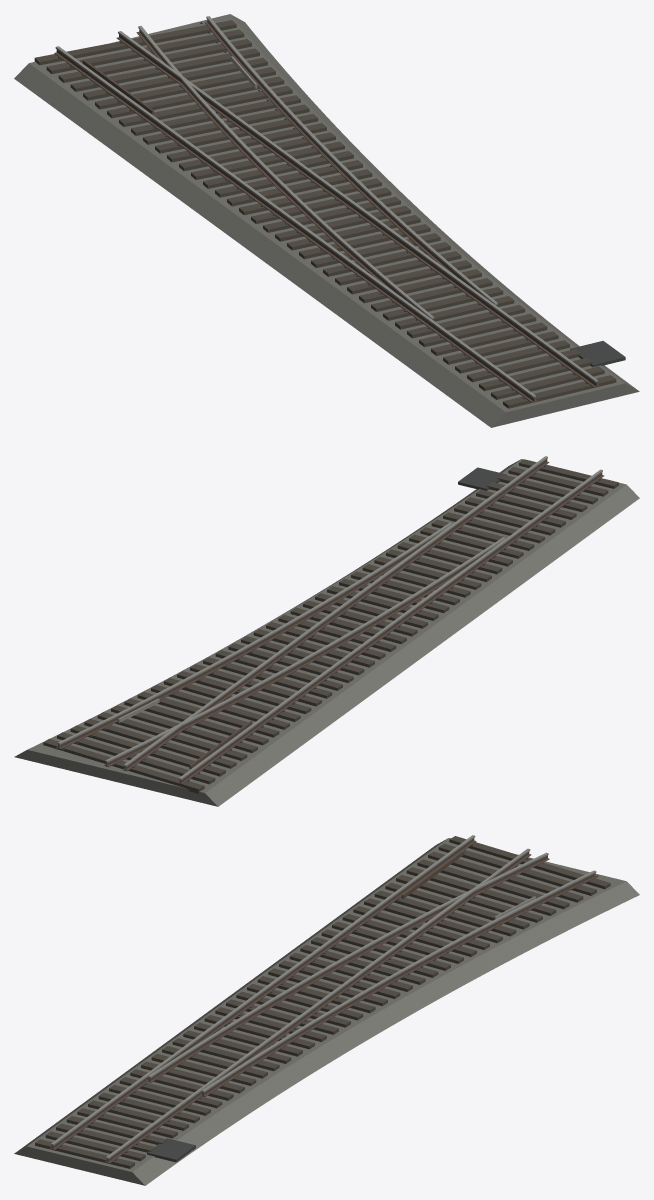
3 views of the same model, one above another, from view 1: azimuth 30°, elevation 25°; view 2: azimuth 150°, elevation 25°; view 3: azimuth 330°, elevation 25° (orthographic). The views are drawn at different scales.
Parts seen in each view (by area): view 1: VIS_Turnout_Integrated_SingleFannedSleeperField, VIS_TurnoutShared_Ballast_Bed, VIS_Through_Left_RailHead, VIS_Through_Right_RailHead, VIS_Diverging_Right_RailHead, VIS_Through_Left_RailWeb, VIS_Diverging_Left_RailHead, VIS_Through_Left_RailFoot, VIS_Through_Right_RailWeb, VIS_Through_Right_RailFoot, VIS_Diverging_Right_RailFoot, VIS_Diverging_Left_RailFoot (+3 smaller); view 2: VIS_Turnout_Integrated_SingleFannedSleeperField, VIS_TurnoutShared_Ballast_Bed, VIS_Through_Left_RailHead, VIS_Through_Right_RailHead, VIS_Diverging_Right_RailHead, VIS_Diverging_Left_RailHead, VIS_Through_Left_RailWeb, VIS_Through_Left_RailFoot, VIS_Through_Right_RailWeb, VIS_Through_Right_RailFoot, VIS_Diverging_Right_RailWeb, VIS_Diverging_Left_RailWeb (+3 smaller); view 3: VIS_Turnout_Integrated_SingleFannedSleeperField, VIS_TurnoutShared_Ballast_Bed, VIS_Through_Left_RailHead, VIS_Through_Right_RailHead, VIS_Diverging_Right_RailHead, VIS_Diverging_Left_RailHead, VIS_Diverging_Right_RailWeb, VIS_Through_Left_RailWeb, VIS_Diverging_Left_RailWeb, VIS_Through_Right_RailWeb, VIS_Diverging_Right_RailFoot, VIS_Through_Left_RailFoot (+3 smaller).
Boxes of the visible parts, x1,y1,x2,y2 form: VIS_Turnout_Integrated_SingleFannedSleeperField: (34, 20, 616, 408); VIS_TurnoutShared_Ballast_Bed: (14, 14, 639, 427); VIS_Through_Left_RailHead: (55, 46, 535, 397); VIS_Through_Right_RailHead: (118, 31, 598, 382); VIS_Diverging_Right_RailHead: (206, 16, 497, 304); VIS_Through_Left_RailWeb: (56, 49, 534, 401); VIS_Diverging_Left_RailHead: (138, 25, 434, 318); VIS_Through_Left_RailFoot: (54, 52, 537, 402); VIS_Through_Right_RailWeb: (119, 34, 597, 386); VIS_Through_Right_RailFoot: (116, 37, 599, 387); VIS_Diverging_Right_RailFoot: (205, 22, 456, 276); VIS_Diverging_Left_RailFoot: (136, 32, 391, 289); VIS_Turnout_Integrated_SingleFannedSleeperField: (43, 459, 618, 793); VIS_TurnoutShared_Ballast_Bed: (14, 459, 639, 806); VIS_Through_Left_RailHead: (178, 469, 602, 780); VIS_Through_Right_RailHead: (123, 456, 547, 766); VIS_Diverging_Right_RailHead: (57, 522, 452, 744); VIS_Diverging_Left_RailHead: (105, 537, 505, 762); VIS_Through_Left_RailWeb: (179, 472, 602, 783); VIS_Through_Left_RailFoot: (177, 475, 604, 784); VIS_Through_Right_RailWeb: (124, 459, 547, 769); VIS_Through_Right_RailFoot: (122, 461, 549, 771); VIS_Diverging_Right_RailWeb: (58, 532, 440, 747); VIS_Diverging_Left_RailWeb: (106, 545, 496, 765); VIS_Turnout_Integrated_SingleFannedSleeperField: (35, 836, 610, 1168); VIS_TurnoutShared_Ballast_Bed: (14, 838, 639, 1185); VIS_Through_Left_RailHead: (51, 835, 475, 1145); VIS_Through_Right_RailHead: (106, 848, 530, 1159); VIS_Diverging_Right_RailHead: (201, 870, 596, 1092); VIS_Diverging_Left_RailHead: (148, 852, 548, 1078); VIS_Diverging_Right_RailWeb: (202, 873, 595, 1095); VIS_Through_Left_RailWeb: (51, 838, 474, 1148); VIS_Diverging_Left_RailWeb: (148, 855, 547, 1081); VIS_Through_Right_RailWeb: (106, 851, 529, 1162); VIS_Diverging_Right_RailFoot: (201, 876, 596, 1096); VIS_Through_Left_RailFoot: (49, 840, 476, 1150).
Size of the model in its own units: 5.59 by 0.499 by 20.03.
Materials: 5 (5 with a texture image).
